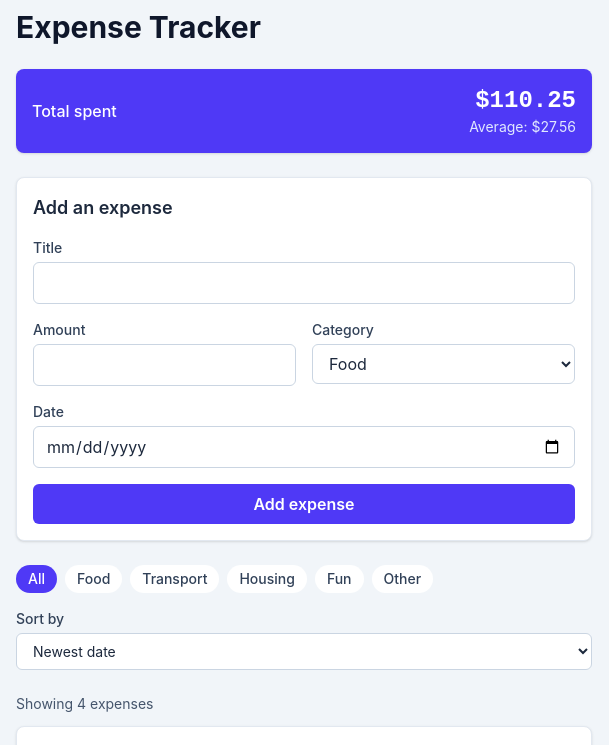
Test: App › adds a new expense to the list when the form is submitted
Type "Pizza" into the field labelled "Title" at (304, 283), box [33, 262, 575, 304]
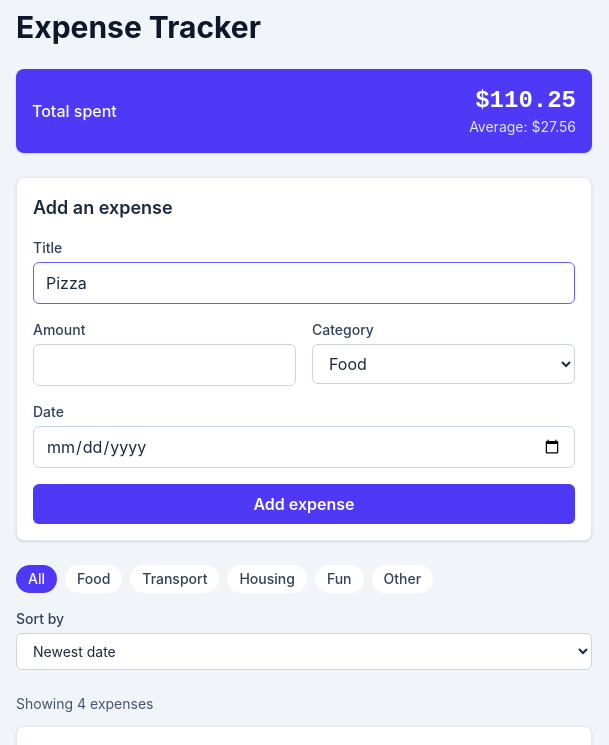
Type "20" into the number field labelled "Amount" at (164, 365), box [33, 344, 296, 386]
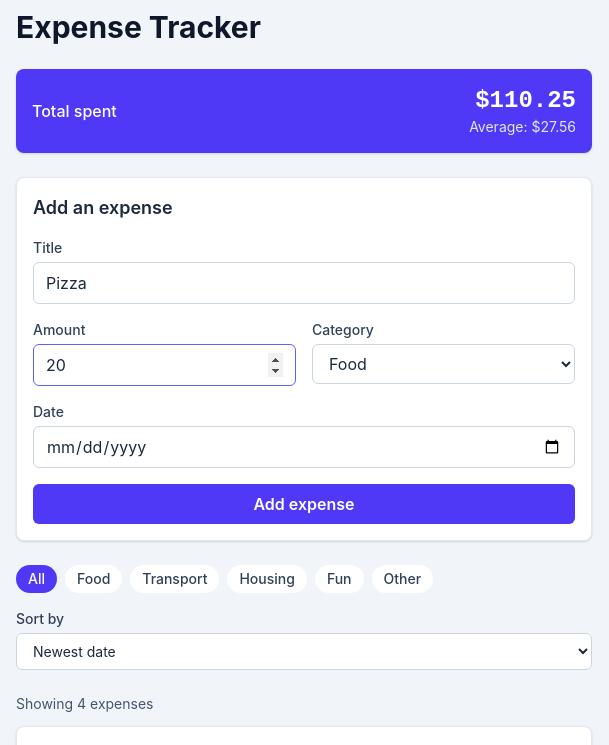
Type "2026-11-20" into the date field labelled "Date" at (304, 447), box [33, 426, 575, 468]
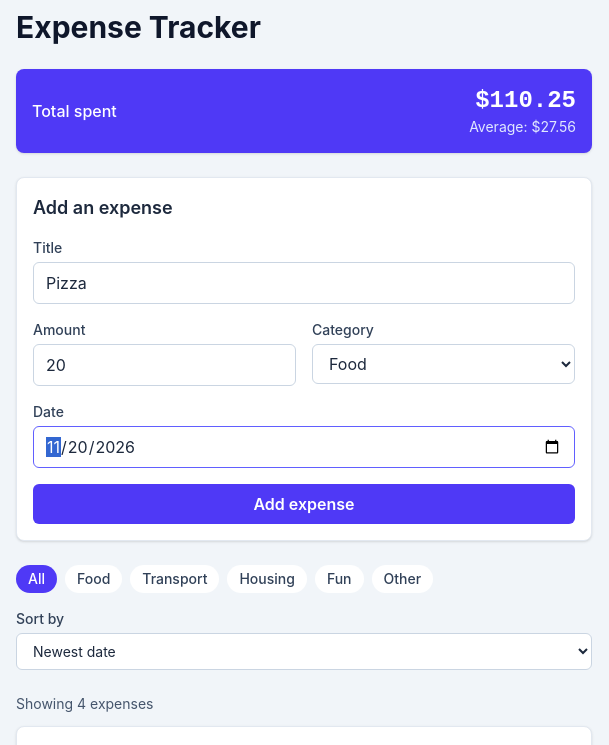
Click the button "Add expense" at (304, 504), box [33, 484, 575, 524]
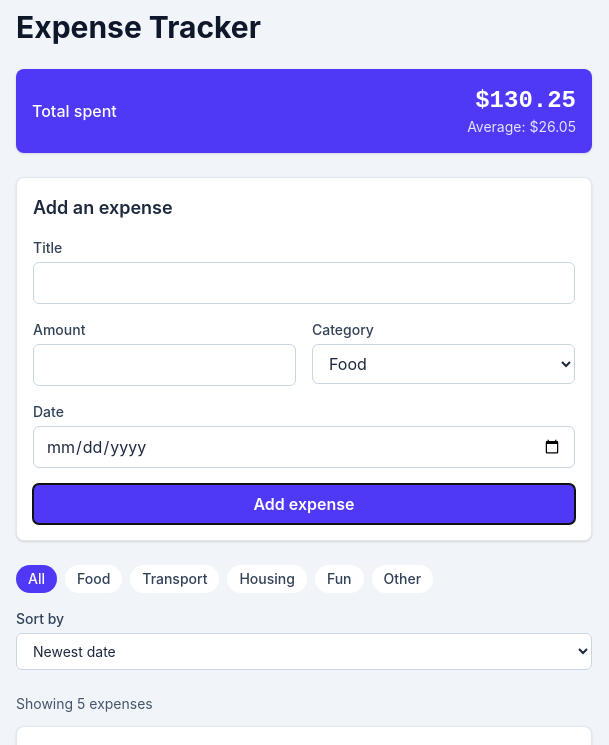
Now the text "Showing 5 expenses" is shown, box [16, 695, 153, 712]
